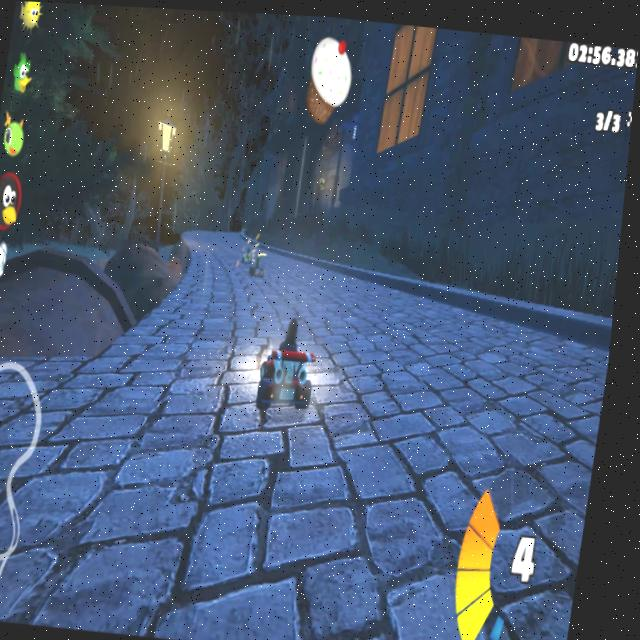player_kart: (242, 311, 338, 446)
track: (331, 304, 600, 462), (160, 229, 256, 592), (254, 256, 381, 316)
